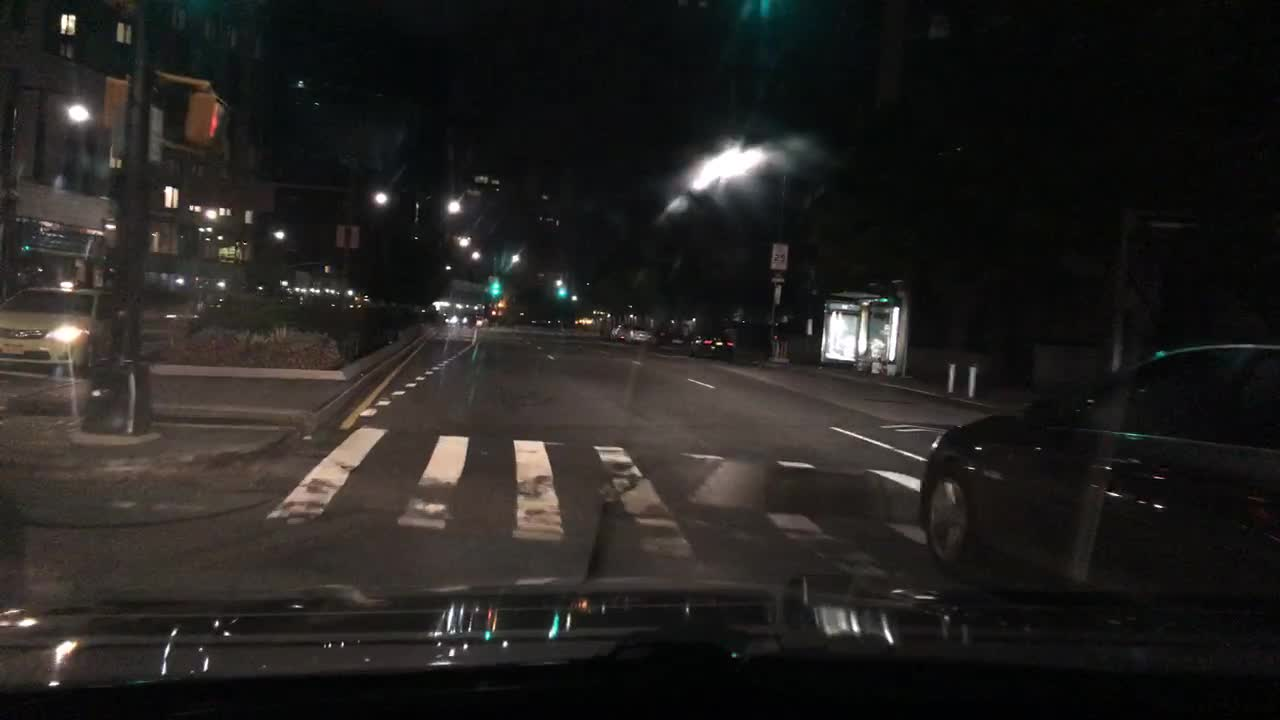car: (917, 341, 1279, 605), (0, 282, 119, 378), (685, 327, 741, 363), (618, 322, 652, 343), (459, 314, 486, 327), (608, 319, 630, 334)
traffic light: (181, 85, 230, 154), (98, 77, 134, 131), (488, 277, 500, 296), (557, 280, 567, 297)
traffic sign: (768, 239, 786, 268), (334, 224, 356, 246), (772, 269, 783, 284)
